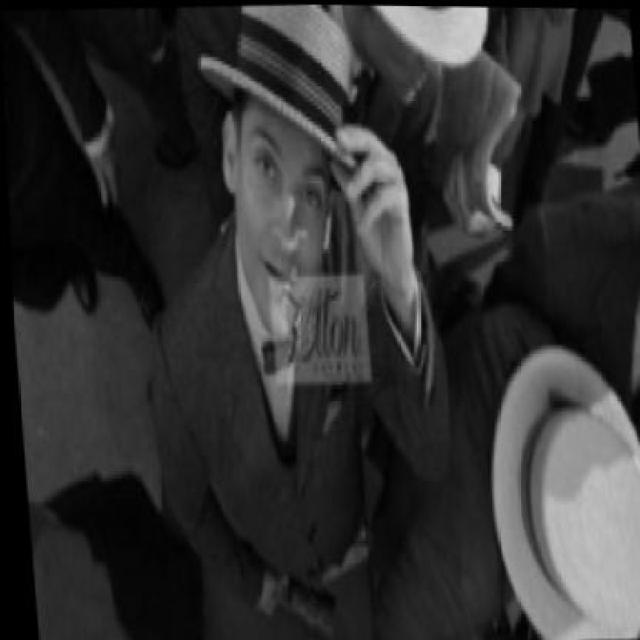hat: (477, 337, 640, 640), (191, 2, 360, 176)
